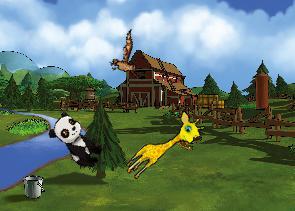eagle: (99, 29, 152, 87)
giraffe: (121, 106, 208, 189)
panda: (44, 109, 109, 173)
